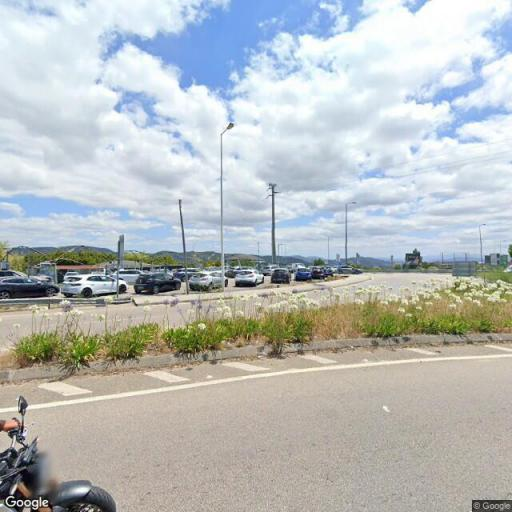mono_10: (266, 182, 281, 264)
